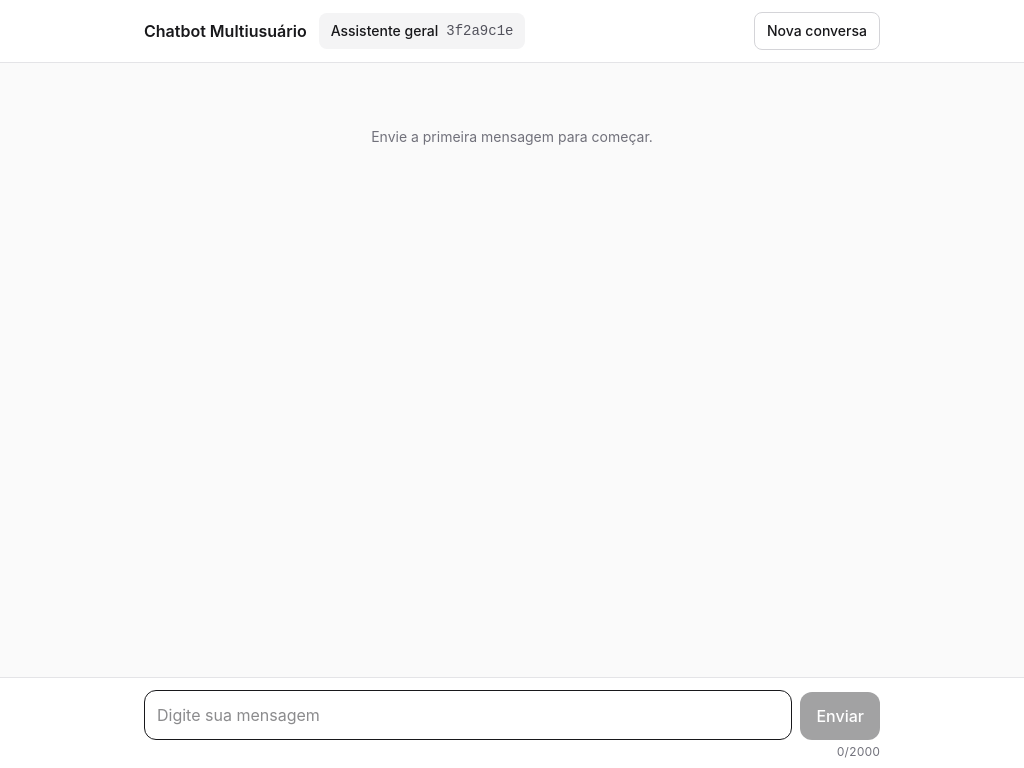
Test: enviar mensagem › mostra a pergunta do usuário como texto puro, sem Markdown
Step 1. Type "**não é negrito**" into the text box labelled "mensagem" → (468, 715), box [144,690,792,740]
Then press Enter
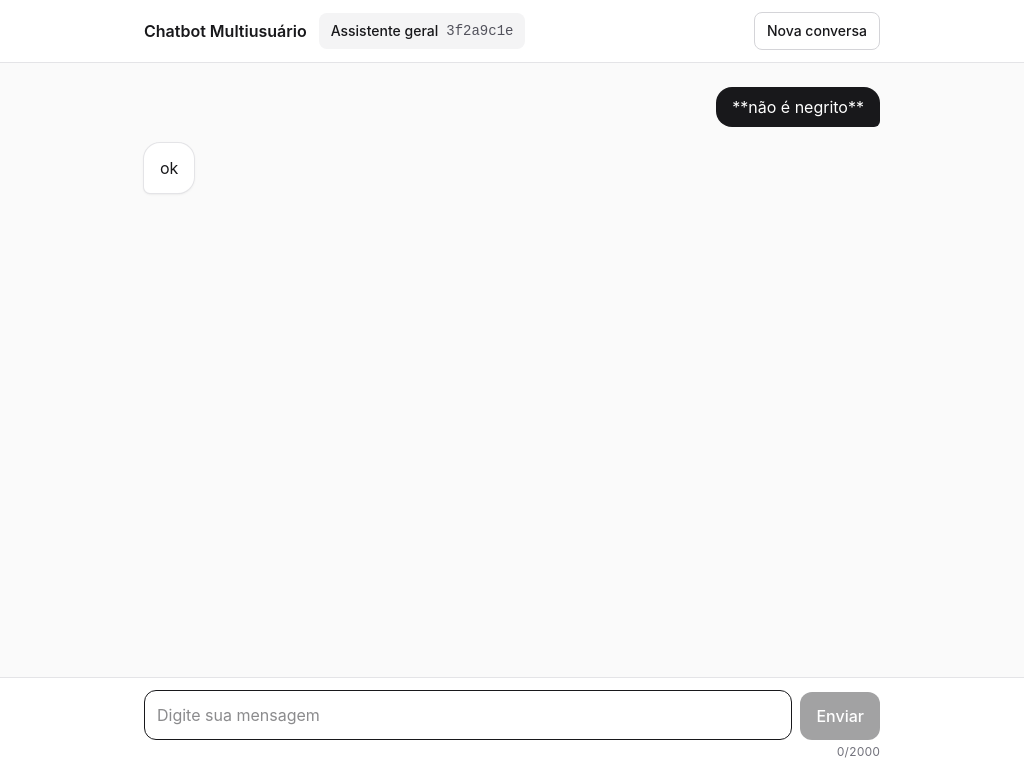
Check: the text "**não é negrito**" is shown, box [716,87,880,127]
